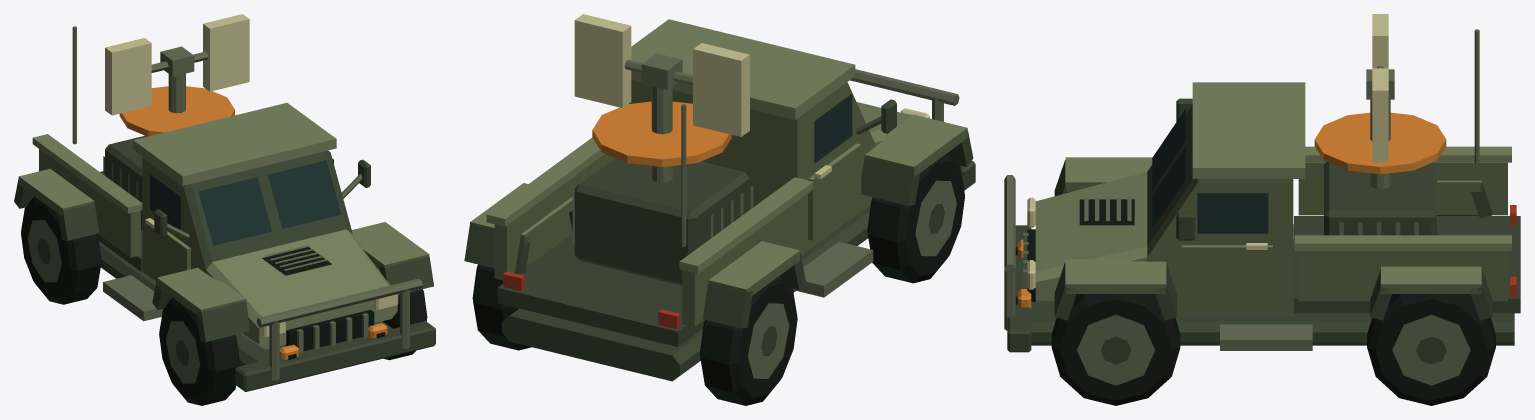
File: jammerTruck_field.glb
3 views of the same model, side by side, from view 1: azimuth 30°, elevation 25°; view 2: azimuth 150°, elevation 25°; view 3: azimuth 270°, elevation 25° (orthographic). The views are drawn at different scales.
Visible parts, largest first — view 1: Body, JammerHead, Wheel_-1_1.18, Wheel_-1_-1.17, JammerScan, Wheel_1_-1.17; view 2: Body, JammerHead, Wheel_-1_1.18, Wheel_-1_-1.17, JammerScan, Wheel_1_1.18; view 3: Body, Wheel_1_-1.17, Wheel_1_1.18, JammerScan, JammerHead.
Boxes of the visible parts, <box> form: Body: <box>14,26,435,391</box>; JammerHead: <box>105,14,249,115</box>; Wheel_-1_1.18: <box>21,196,101,304</box>; Wheel_-1_-1.17: <box>159,298,239,405</box>; JammerScan: <box>119,86,234,136</box>; Wheel_1_-1.17: <box>383,289,427,360</box>; Body: <box>464,19,975,381</box>; JammerHead: <box>574,14,749,136</box>; Wheel_-1_1.18: <box>700,275,797,405</box>; Wheel_-1_-1.17: <box>867,152,964,283</box>; JammerScan: <box>592,101,731,166</box>; Wheel_1_1.18: <box>472,264,531,350</box>; Body: <box>1004,29,1520,352</box>; Wheel_1_-1.17: <box>1051,294,1180,405</box>; Wheel_1_1.18: <box>1367,294,1495,405</box>; JammerScan: <box>1314,112,1446,174</box>; JammerHead: <box>1366,14,1394,162</box>.
Size of the model in its own units: 3.85 by 4.17 by 6.62.
Materials: 1 (1 with a texture image).
